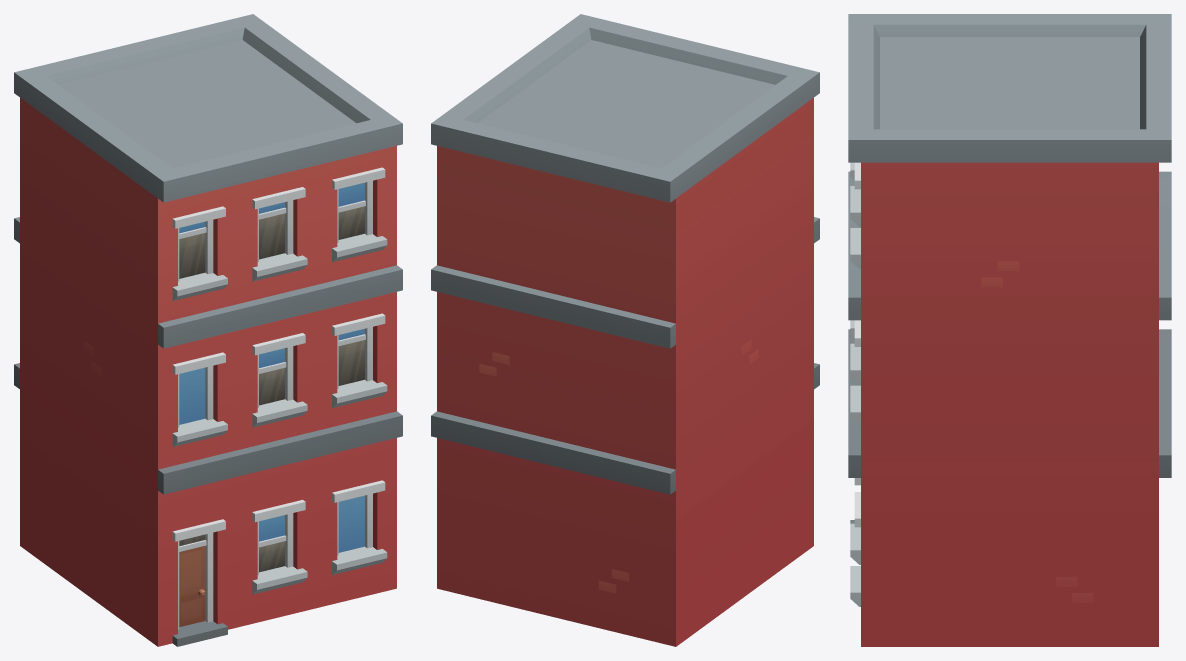
The model's file is building-shop.glb.
3 renders of one model, left to right at view 1: azimuth 30°, elevation 25°; view 2: azimuth 150°, elevation 25°; view 3: azimuth 270°, elevation 25°, orthographic. The views are drawn at different scales.
Visible parts, largest first — view 1: building_C_withoutBase; view 2: building_C_withoutBase; view 3: building_C_withoutBase.
Part boxes in pixels (bbox=[...]): building_C_withoutBase: bbox=[14, 14, 402, 646]; building_C_withoutBase: bbox=[431, 14, 819, 646]; building_C_withoutBase: bbox=[848, 14, 1171, 646].
Size of the model in its own units: 4.29 by 8 by 4.62.
Materials: 1 (1 with a texture image).
